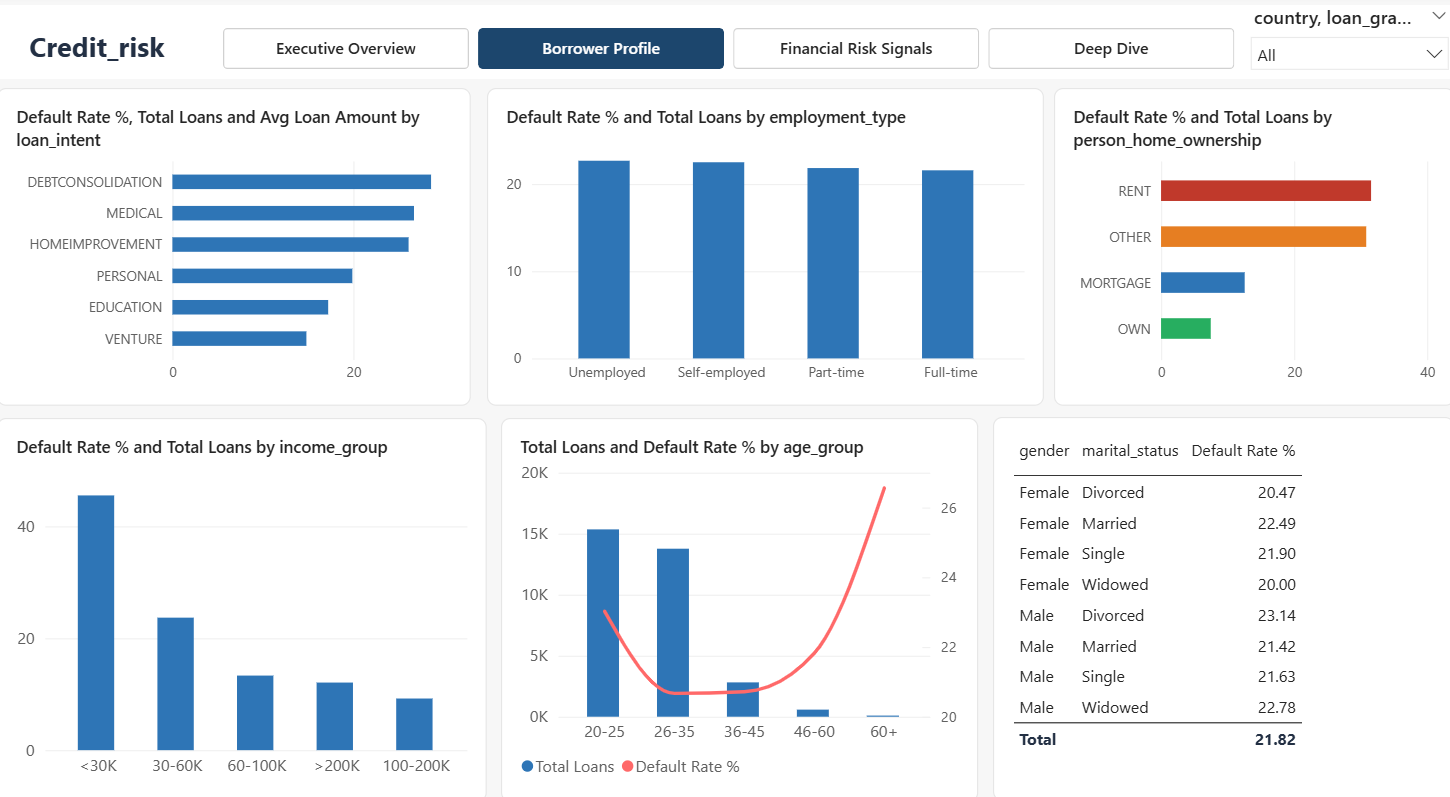

The page's visual inventory and layout, read from the dashboard file:
{"tool":"powerbi","page":{"name":"Borrower Profile","canvas":[1280,720],"ordinal":1},"visuals":[{"type":"shape","box":[0,8.1,1280,65],"z":0},{"type":"textbox","box":[15,27.3,145.6,37.9],"z":1000},{"type":"pageNavigator","box":[198.4,28.1,889.5,36.9],"z":2000},{"type":"slicer","fields":{"Values":["credit_risk_cleaned.country","credit_risk_cleaned.loan_grade","credit_risk_cleaned.age_group"]},"box":[1095.8,7.9,184.4,65],"z":3000},{"type":"clusteredBarChart","fields":{"Category":["credit_risk_cleaned.loan_intent"],"Y":["credit_risk_cleaned.Default Rate %"]},"box":[0,80.6,416.4,279.4],"z":4000},{"type":"clusteredBarChart","fields":{"Category":["credit_risk_cleaned.person_home_ownership"],"Y":["credit_risk_cleaned.Default Rate %"]},"box":[928.4,80.6,351.6,279.4],"z":5000},{"type":"lineStackedColumnComboChart","fields":{"Category":["credit_risk_cleaned.employment_type"],"Y":["credit_risk_cleaned.Default Rate %"]},"box":[430.4,80.6,489.5,279.4],"z":6000},{"type":"lineStackedColumnComboChart","fields":{"Category":["credit_risk_cleaned.income_group"],"Y":["credit_risk_cleaned.Default Rate %"]},"box":[0,370.4,430.4,336.6],"z":7000},{"type":"lineStackedColumnComboChart","fields":{"Category":["credit_risk_cleaned.age_group"],"Y":["credit_risk_cleaned.Total Loans"],"Y2":["credit_risk_cleaned.Default Rate %"]},"box":[442.2,370.8,419.5,337.3],"z":8000},{"type":"tableEx","fields":{"Values":["credit_risk_cleaned.gender","credit_risk_cleaned.marital_status","credit_risk_cleaned.Default Rate %"]},"box":[874.6,369.7,405.4,337.3],"z":9000}]}

Visuals, with their boxes in screenshot pixels (x1, y1, x2, y2), scaled from the page's 1280x720 canvas onto the 1450x797 screenshot:
shape: bbox=(0, 9, 1449, 81)
textbox: bbox=(17, 30, 182, 72)
pageNavigator: bbox=(225, 31, 1232, 72)
slicer - credit_risk_cleaned.country x credit_risk_cleaned.loan_grade: bbox=(1241, 9, 1449, 81)
clusteredBarChart - credit_risk_cleaned.loan_intent x credit_risk_cleaned.Default Rate %: bbox=(0, 89, 472, 398)
clusteredBarChart - credit_risk_cleaned.person_home_ownership x credit_risk_cleaned.Default Rate %: bbox=(1052, 89, 1449, 398)
lineStackedColumnComboChart - credit_risk_cleaned.employment_type x credit_risk_cleaned.Default Rate %: bbox=(488, 89, 1042, 398)
lineStackedColumnComboChart - credit_risk_cleaned.income_group x credit_risk_cleaned.Default Rate %: bbox=(0, 410, 488, 783)
lineStackedColumnComboChart - credit_risk_cleaned.age_group x credit_risk_cleaned.Total Loans: bbox=(501, 410, 976, 784)
tableEx - credit_risk_cleaned.gender x credit_risk_cleaned.marital_status: bbox=(991, 409, 1449, 783)
